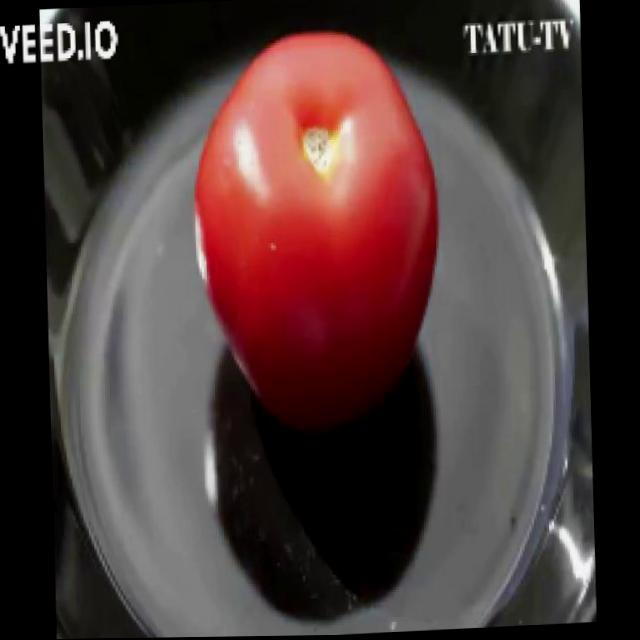tomato: (188, 36, 447, 436)
